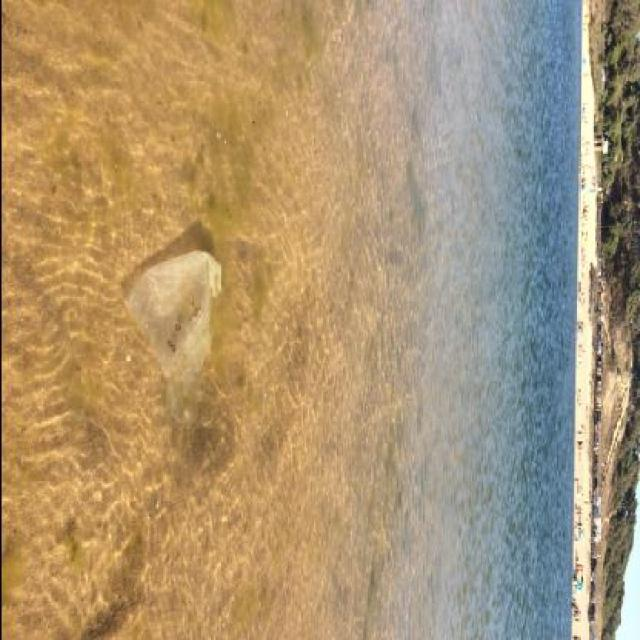plastic: (122, 249, 221, 425)
